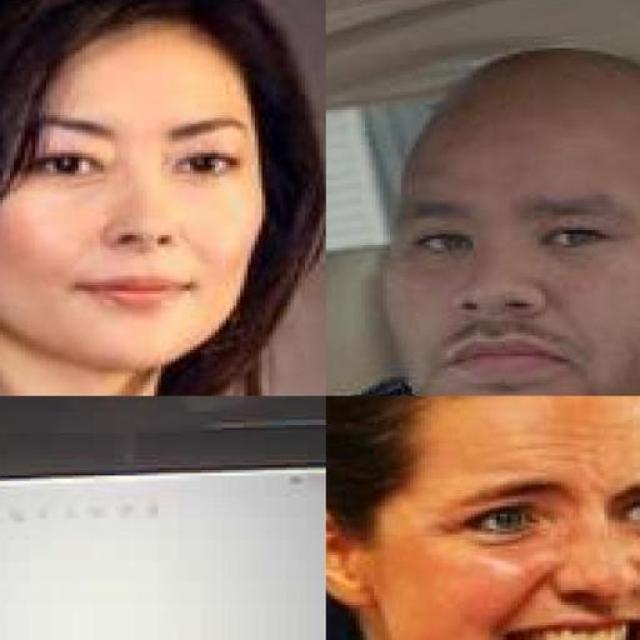bareface: (0, 0, 279, 359), (380, 52, 640, 402)
